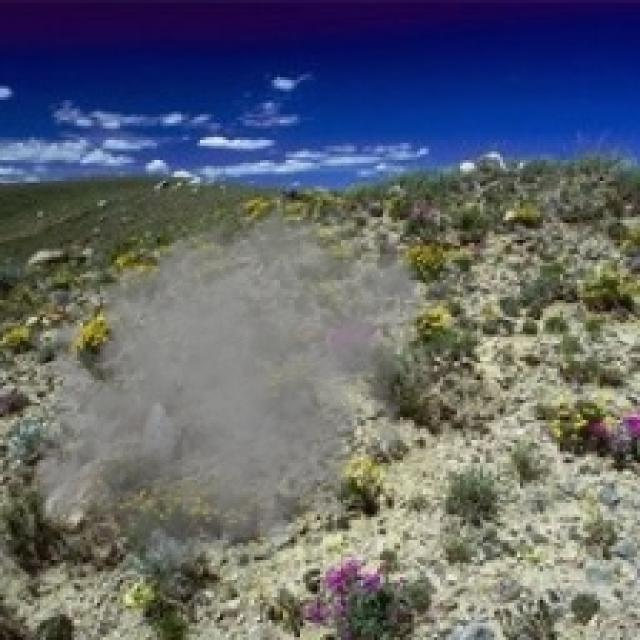Smoke: (19, 188, 432, 600)
